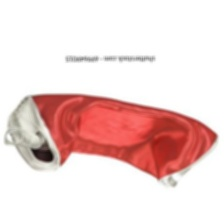can: (2, 90, 219, 197)
